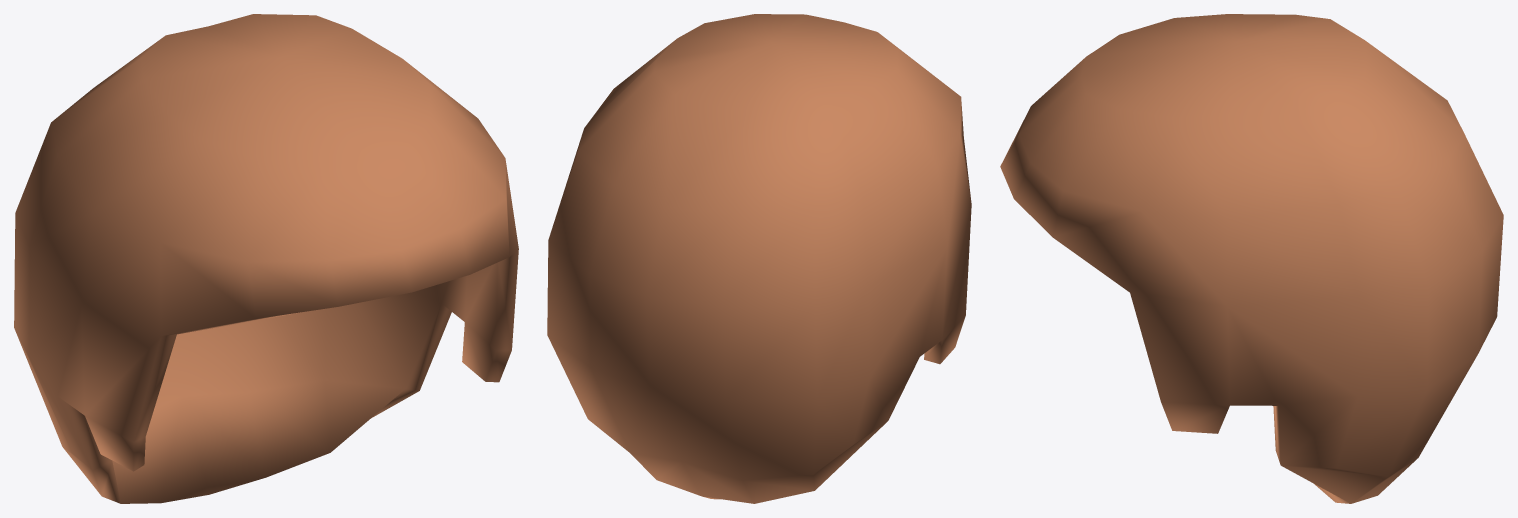
File: ShortHair.fbx
3 renders of one model, left to right at view 1: azimuth 30°, elevation 25°; view 2: azimuth 150°, elevation 25°; view 3: azimuth 270°, elevation 25°, orthographic. The views are drawn at different scales.
Visible parts, largest first — view 1: 03 Hair - Short Hair; view 2: 03 Hair - Short Hair; view 3: 03 Hair - Short Hair.
Part boxes in pixels (x1,y1,x2,y2): 03 Hair - Short Hair: [14, 14, 518, 503]; 03 Hair - Short Hair: [547, 14, 971, 503]; 03 Hair - Short Hair: [1000, 14, 1503, 503].
Bounding box in the file's own units: 0.2147 × 0.2459 × 0.2548.
